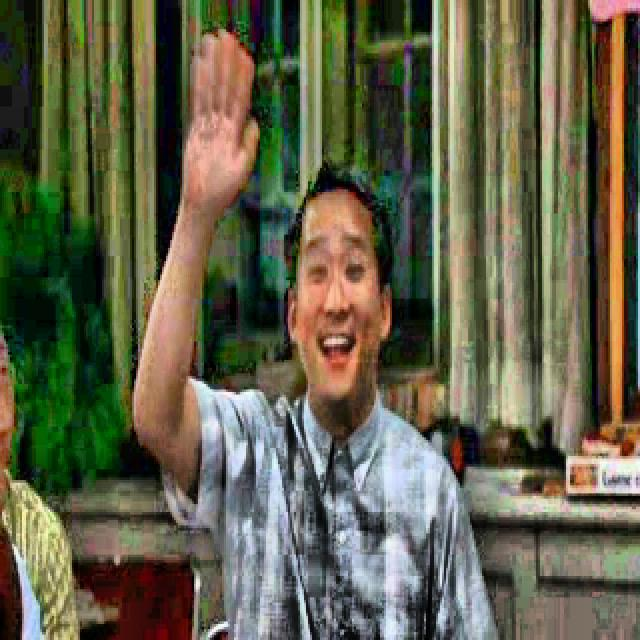T: (116, 22, 506, 640)
